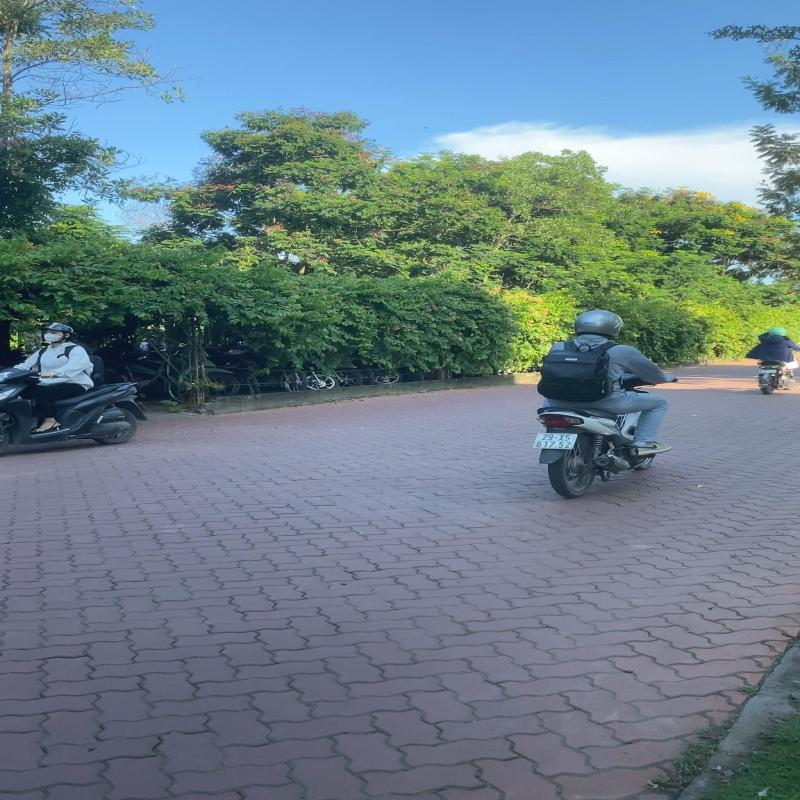helmet: (572, 310, 624, 338)
licenseplate: (532, 432, 578, 450)
motorcyclist: (532, 308, 676, 501)
